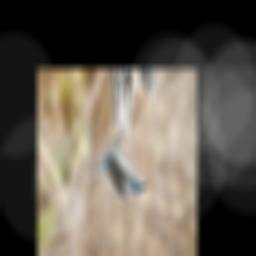Swallow: (83, 132, 148, 204)
